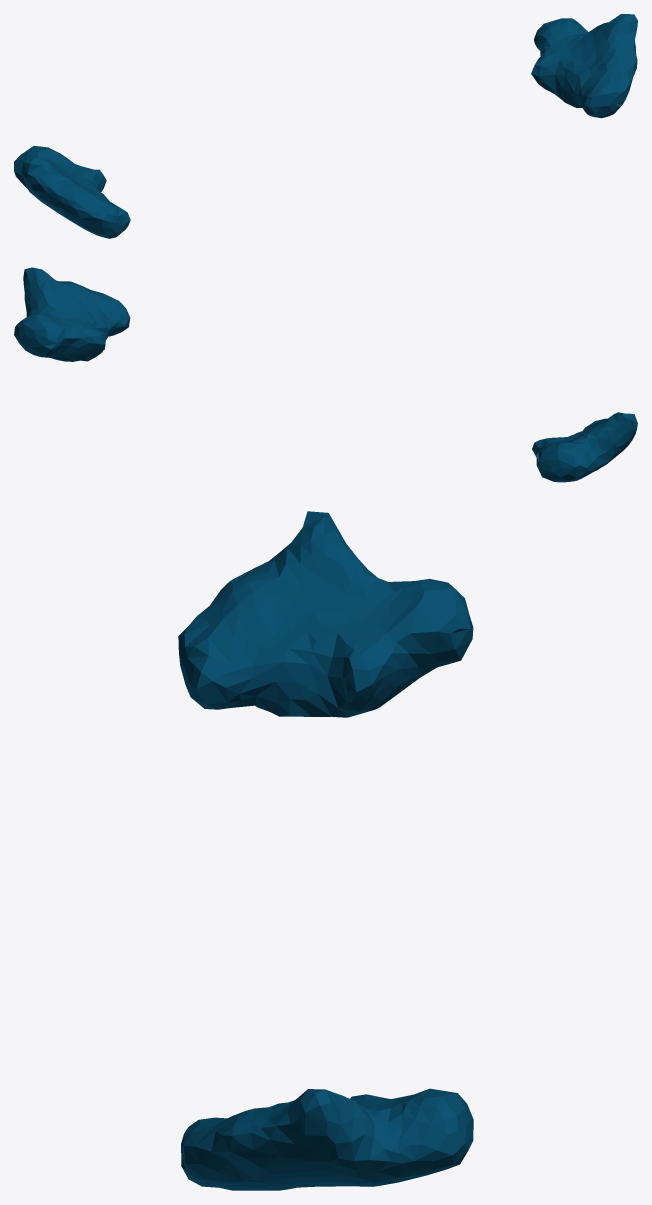
The model's file is 162-TE2-temporal area TE2-('0.0000', '0.3451', '0.4980').obj.
3 views of the same model, one above another, from view 1: azimuth 30°, elevation 25°; view 2: azimuth 150°, elevation 25°; view 3: azimuth 270°, elevation 25° (orthographic). The views are drawn at different scales.
Size of the model in its own units: 327 by 37.38 by 68.32.
